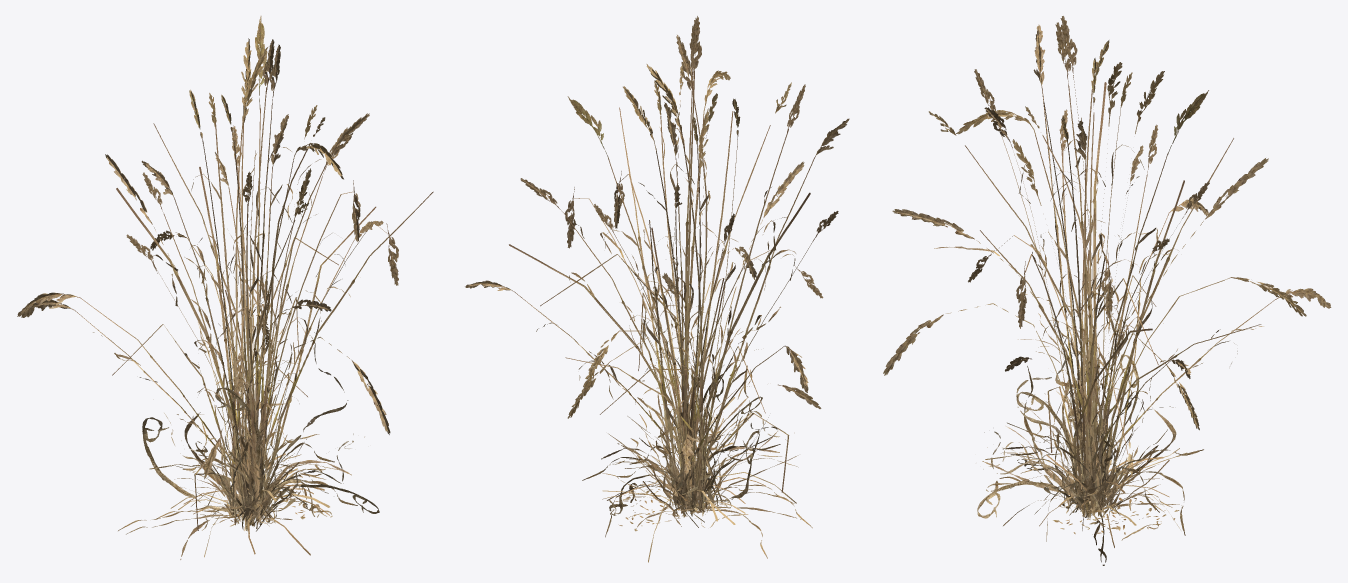
File: tdcrdbur_tier_3_nonUE.gltf
3 views of the same model, side by side, from view 1: azimuth 30°, elevation 25°; view 2: azimuth 150°, elevation 25°; view 3: azimuth 270°, elevation 25° (orthographic). The views are drawn at different scales.
Visible parts, largest first — view 1: SM_tdcrdbur_VarA, SM_tdcrdbur_VarC, SM_tdcrdbur_VarB, SM_tdcrdbur_VarD, SM_tdcrdbur_VarE; view 2: SM_tdcrdbur_VarA, SM_tdcrdbur_VarC, SM_tdcrdbur_VarB, SM_tdcrdbur_VarD, SM_tdcrdbur_VarE, SM_tdcrdbur_VarF; view 3: SM_tdcrdbur_VarA, SM_tdcrdbur_VarC, SM_tdcrdbur_VarB, SM_tdcrdbur_VarD, SM_tdcrdbur_VarE.
Boxes of the visible parts, x1,y1,x2,y2 form: SM_tdcrdbur_VarA: (21, 16, 433, 559); SM_tdcrdbur_VarC: (126, 38, 398, 530); SM_tdcrdbur_VarB: (17, 113, 369, 555); SM_tdcrdbur_VarD: (183, 114, 360, 524); SM_tdcrdbur_VarE: (194, 290, 299, 557); SM_tdcrdbur_VarA: (509, 16, 849, 558); SM_tdcrdbur_VarC: (465, 18, 838, 522); SM_tdcrdbur_VarB: (520, 35, 823, 537); SM_tdcrdbur_VarD: (565, 102, 779, 562); SM_tdcrdbur_VarE: (616, 281, 796, 505); SM_tdcrdbur_VarF: (608, 481, 748, 531); SM_tdcrdbur_VarA: (883, 16, 1331, 547); SM_tdcrdbur_VarC: (974, 22, 1209, 518); SM_tdcrdbur_VarB: (968, 82, 1306, 541); SM_tdcrdbur_VarD: (985, 117, 1180, 565); SM_tdcrdbur_VarE: (1024, 250, 1169, 518).
Size of what is drawn, in the model's own units: 0.9954 by 1.35 by 1.06.
1 material, 1 textured.
